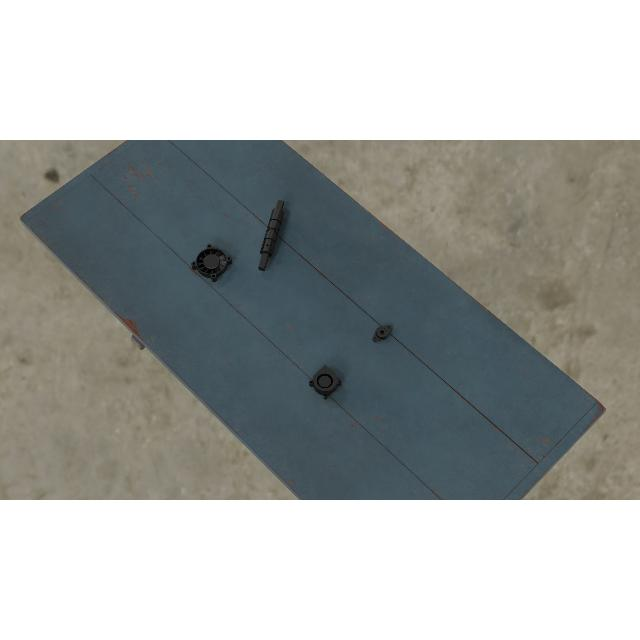Pieza1: (255, 198, 287, 274)
Pieza2: (368, 320, 396, 346)
Pieza3: (308, 365, 344, 401)
Pieza4: (190, 242, 234, 284)
